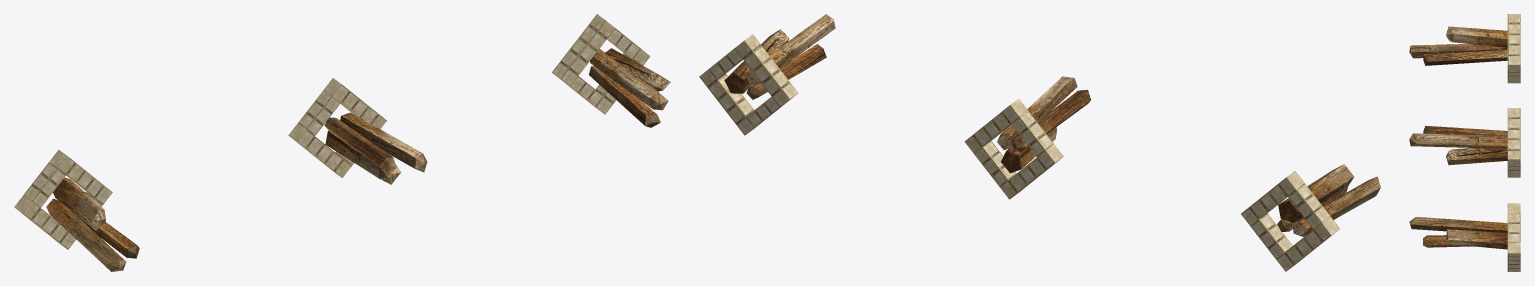
Rendered from tutorial_structure_stick_ornament_multi_x3.dae.
The picture shows the model from 3 angles, left to right: view 1: azimuth 30°, elevation 25°; view 2: azimuth 150°, elevation 25°; view 3: azimuth 270°, elevation 25°; orthographic projection. The views are drawn at different scales.
Parts seen in each view (by area): view 1: tutorial_structure_stick_ornament_multi_x3; view 2: tutorial_structure_stick_ornament_multi_x3; view 3: tutorial_structure_stick_ornament_multi_x3.
Boxes of the visible parts, x1,y1,x2,y2 form: tutorial_structure_stick_ornament_multi_x3: (14,14,670,271); tutorial_structure_stick_ornament_multi_x3: (699,14,1380,271); tutorial_structure_stick_ornament_multi_x3: (1409,14,1520,271).
Size of the model in its own units: 18.31 by 3.84 by 2.76.
3 materials, 3 textured.
